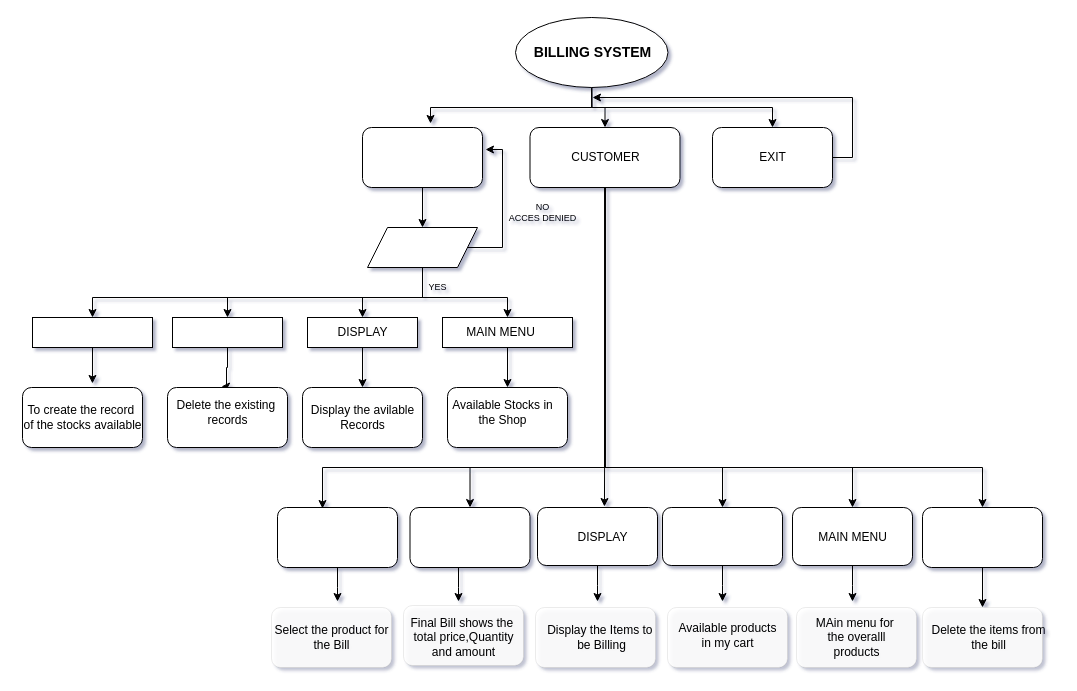
Image size: 1077x691. Some labels were removed from this diagram. The shapes that lost their labels are listed below. From the top down, each one's box as (x1, y1, x2, y2) in pixels, then its label:
(362, 126, 482, 188): ADMINISTRATOR
(366, 226, 478, 268): PASSWORD
(32, 316, 152, 348): CREATE
(172, 316, 282, 348): DELETE
(276, 506, 398, 568): BILL
(409, 506, 530, 568): INVOICE
(662, 506, 782, 566): MY CART
(922, 506, 1042, 568): DELETE ITEMS
